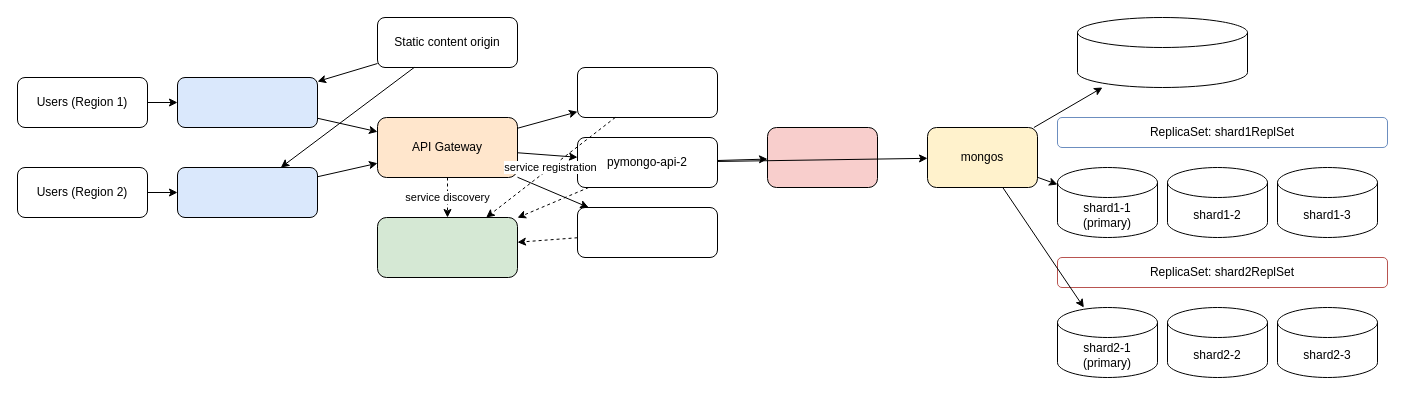
Some shapes in this 1405 by 395 pixel diagram are drawn without their labels. The shapes that lost their labels are listed below. From the top down, each one's box as (x1, y1, x2, y2) in pixels, then its label:
(1076, 16, 1248, 88): configSrv (configReplSet)
(176, 76, 318, 128): CDN (Region 1)
(576, 66, 718, 118): pymongo-api-1
(766, 126, 878, 188): redis
(176, 166, 318, 218): CDN (Region 2)
(376, 216, 518, 278): Consul
(576, 206, 718, 258): pymongo-api-3
